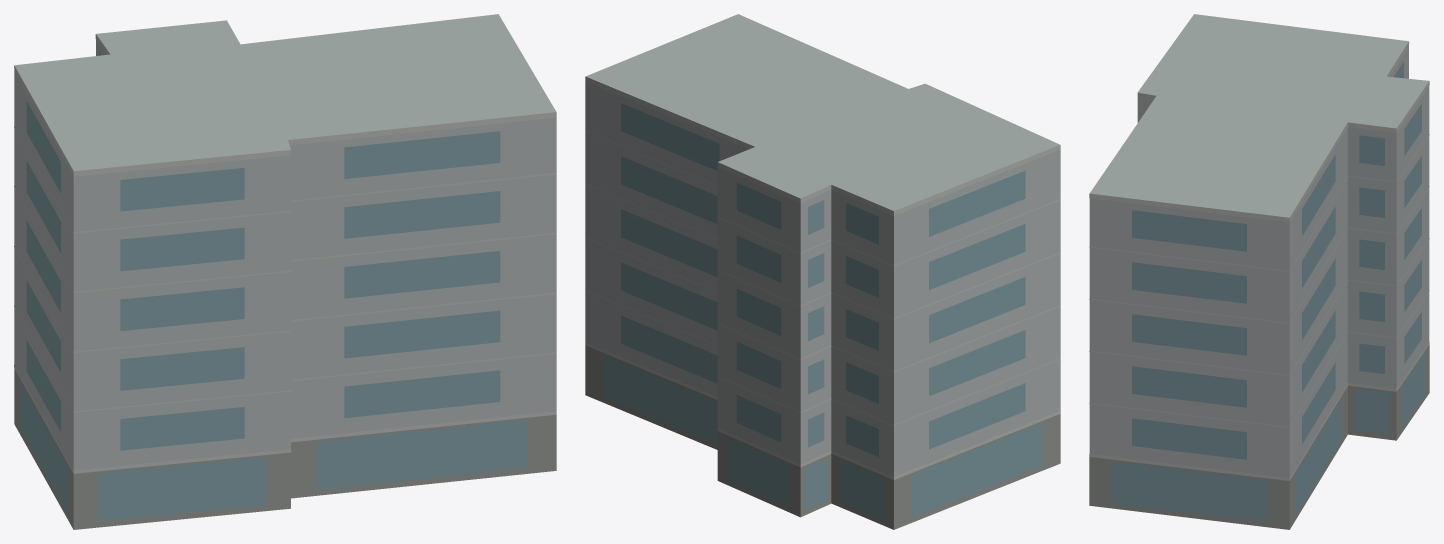
Rendered from survey-upis-32635620.glb.
The picture shows the model from 3 angles, left to right: view 1: azimuth 30°, elevation 25°; view 2: azimuth 150°, elevation 25°; view 3: azimuth 270°, elevation 25°; orthographic projection. The views are drawn at different scales.
Parts seen in each view (by area): view 1: survey-upis-32635620.tmp; view 2: survey-upis-32635620.tmp; view 3: survey-upis-32635620.tmp.
Boxes of the visible parts, bbox=[...] form: survey-upis-32635620.tmp: bbox=[14, 14, 556, 529]; survey-upis-32635620.tmp: bbox=[585, 14, 1060, 529]; survey-upis-32635620.tmp: bbox=[1089, 14, 1429, 529].
Bounding box in the file's own units: 22.42 × 16 × 15.82.
